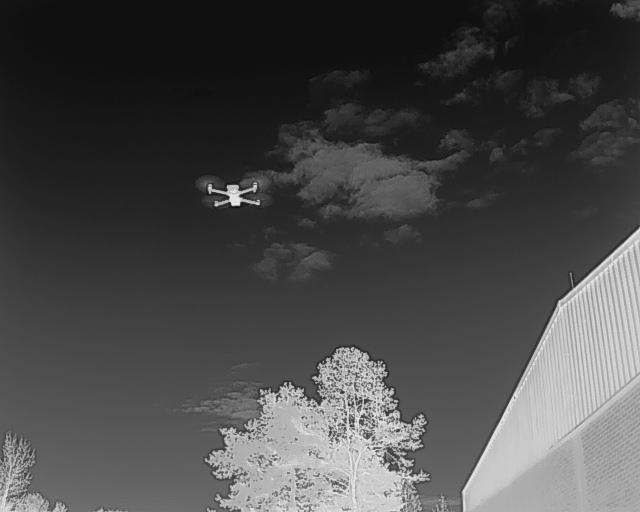drone: (200, 178, 266, 221)
